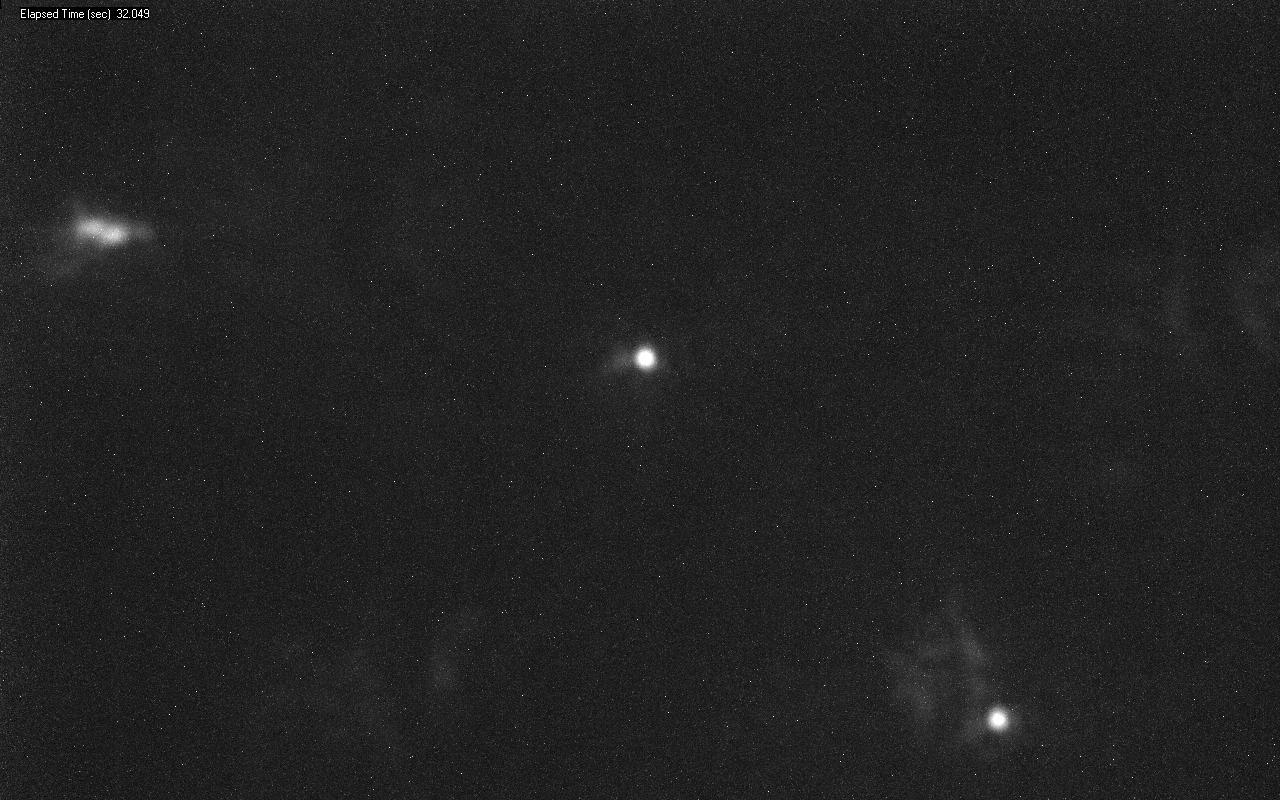Bead: (634, 347, 657, 371), (987, 708, 1007, 731)
